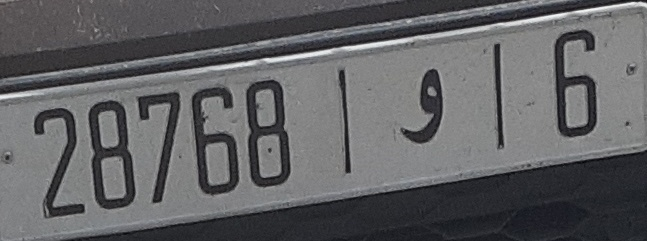2: (31, 105, 85, 221)
6: (550, 29, 605, 141), (188, 84, 241, 198)
7: (135, 90, 182, 206)
8: (85, 98, 137, 212), (244, 78, 295, 190)
waw: (394, 66, 449, 147)
